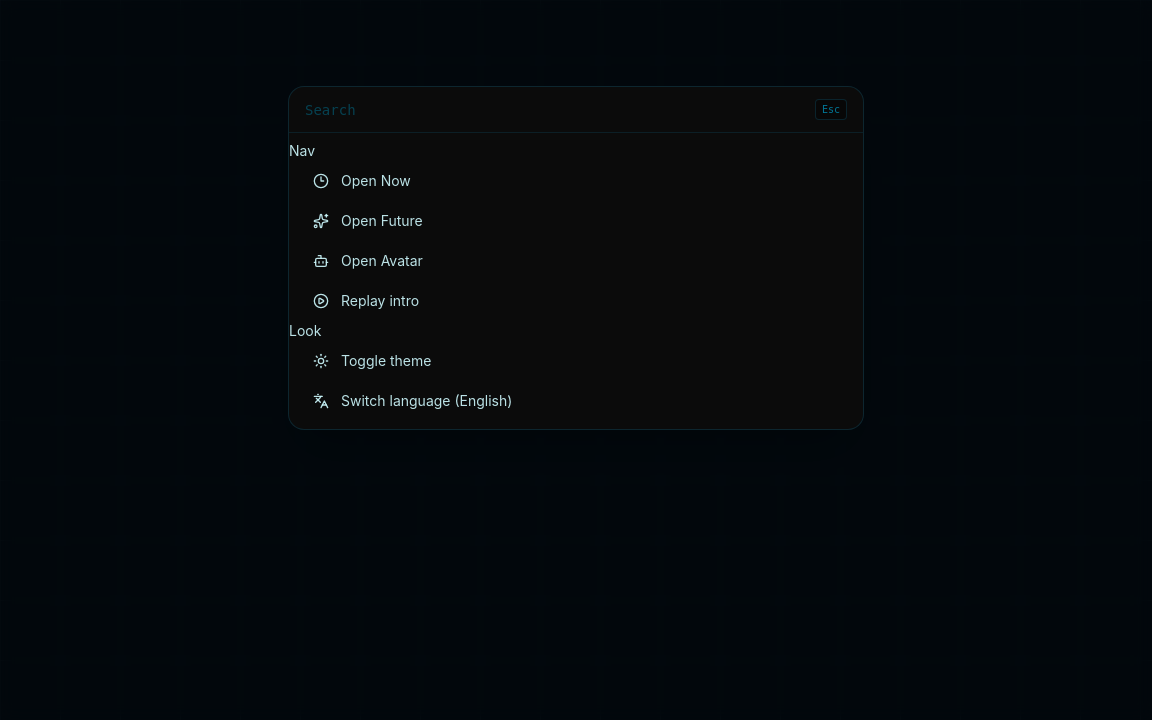
CommandPalette › navigates into the language sub-page when "switch language" is selected
The image size is (1152, 720).
Step 1. Click the option "Switch language (English)" → click(413, 401), box [313, 392, 512, 409]
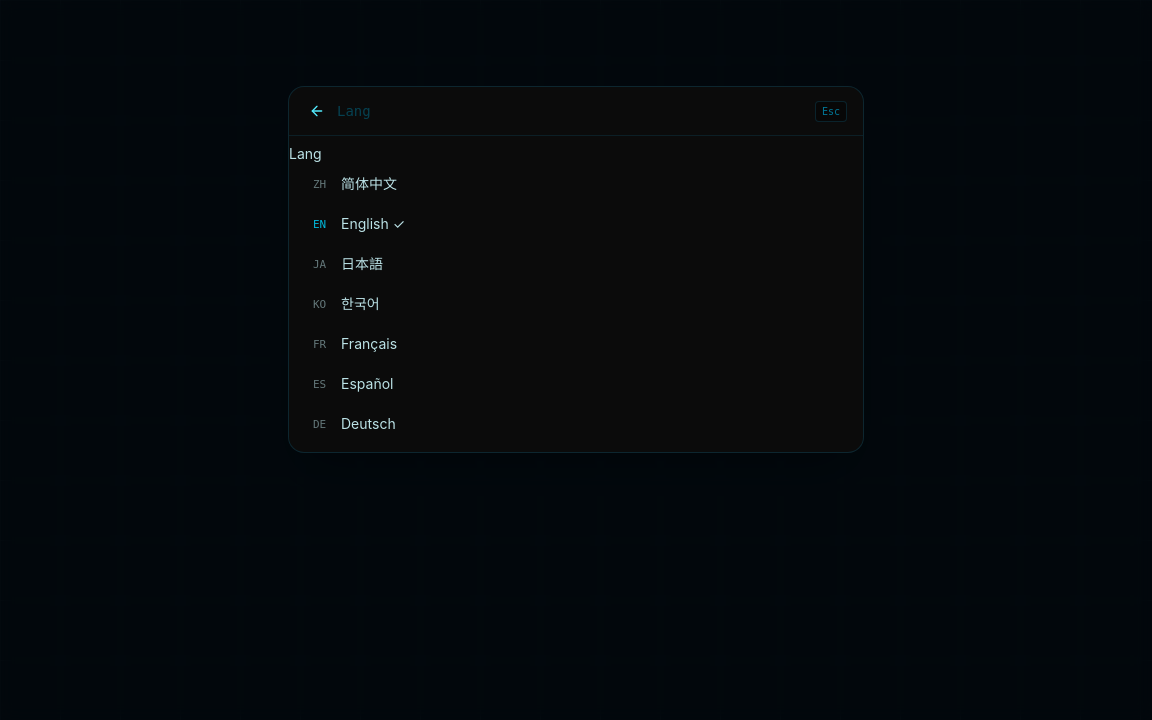
Check: the text "简体中文" is shown, box [341, 175, 397, 192]
Check: the text "English ✓" is shown, box [341, 215, 405, 232]
